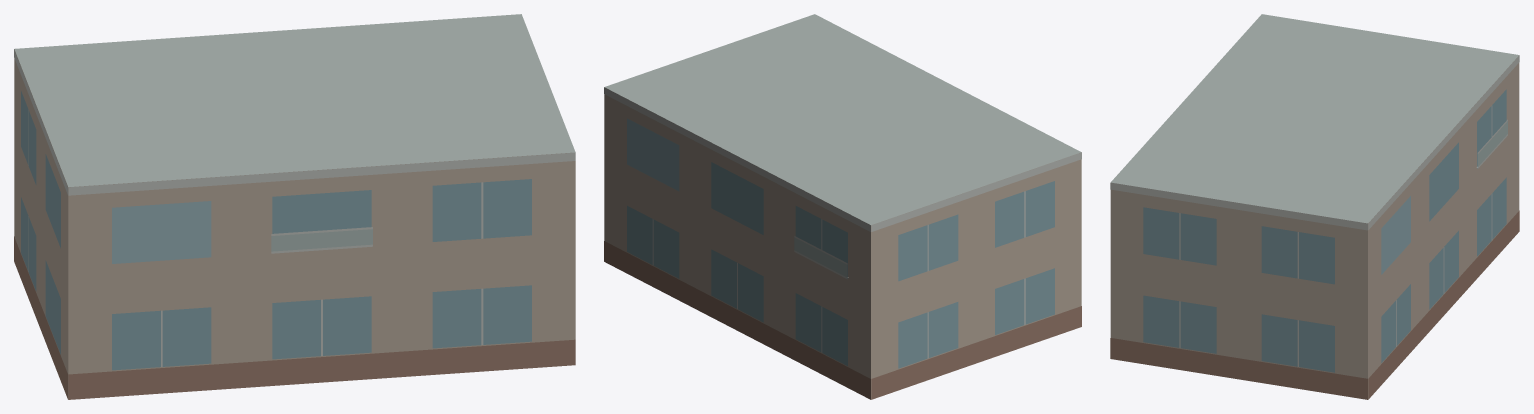
Rendered from survey-upis-32713918.glb.
The picture shows the model from 3 angles, left to right: view 1: azimuth 30°, elevation 25°; view 2: azimuth 150°, elevation 25°; view 3: azimuth 270°, elevation 25°; orthographic projection. The views are drawn at different scales.
Parts seen in each view (by area): view 1: survey-upis-32713918.tmp; view 2: survey-upis-32713918.tmp; view 3: survey-upis-32713918.tmp.
Part boxes in pixels (<box>): survey-upis-32713918.tmp: <box>14,14,575,399</box>; survey-upis-32713918.tmp: <box>604,14,1081,399</box>; survey-upis-32713918.tmp: <box>1110,14,1519,399</box>.
Size of the model in its own units: 15.54 by 6.1 by 12.83.
